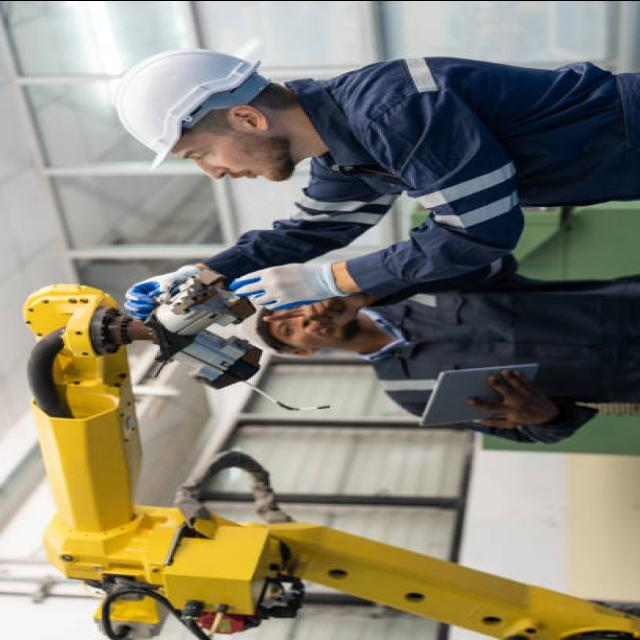Robotic-arm: (4, 268, 640, 639)
